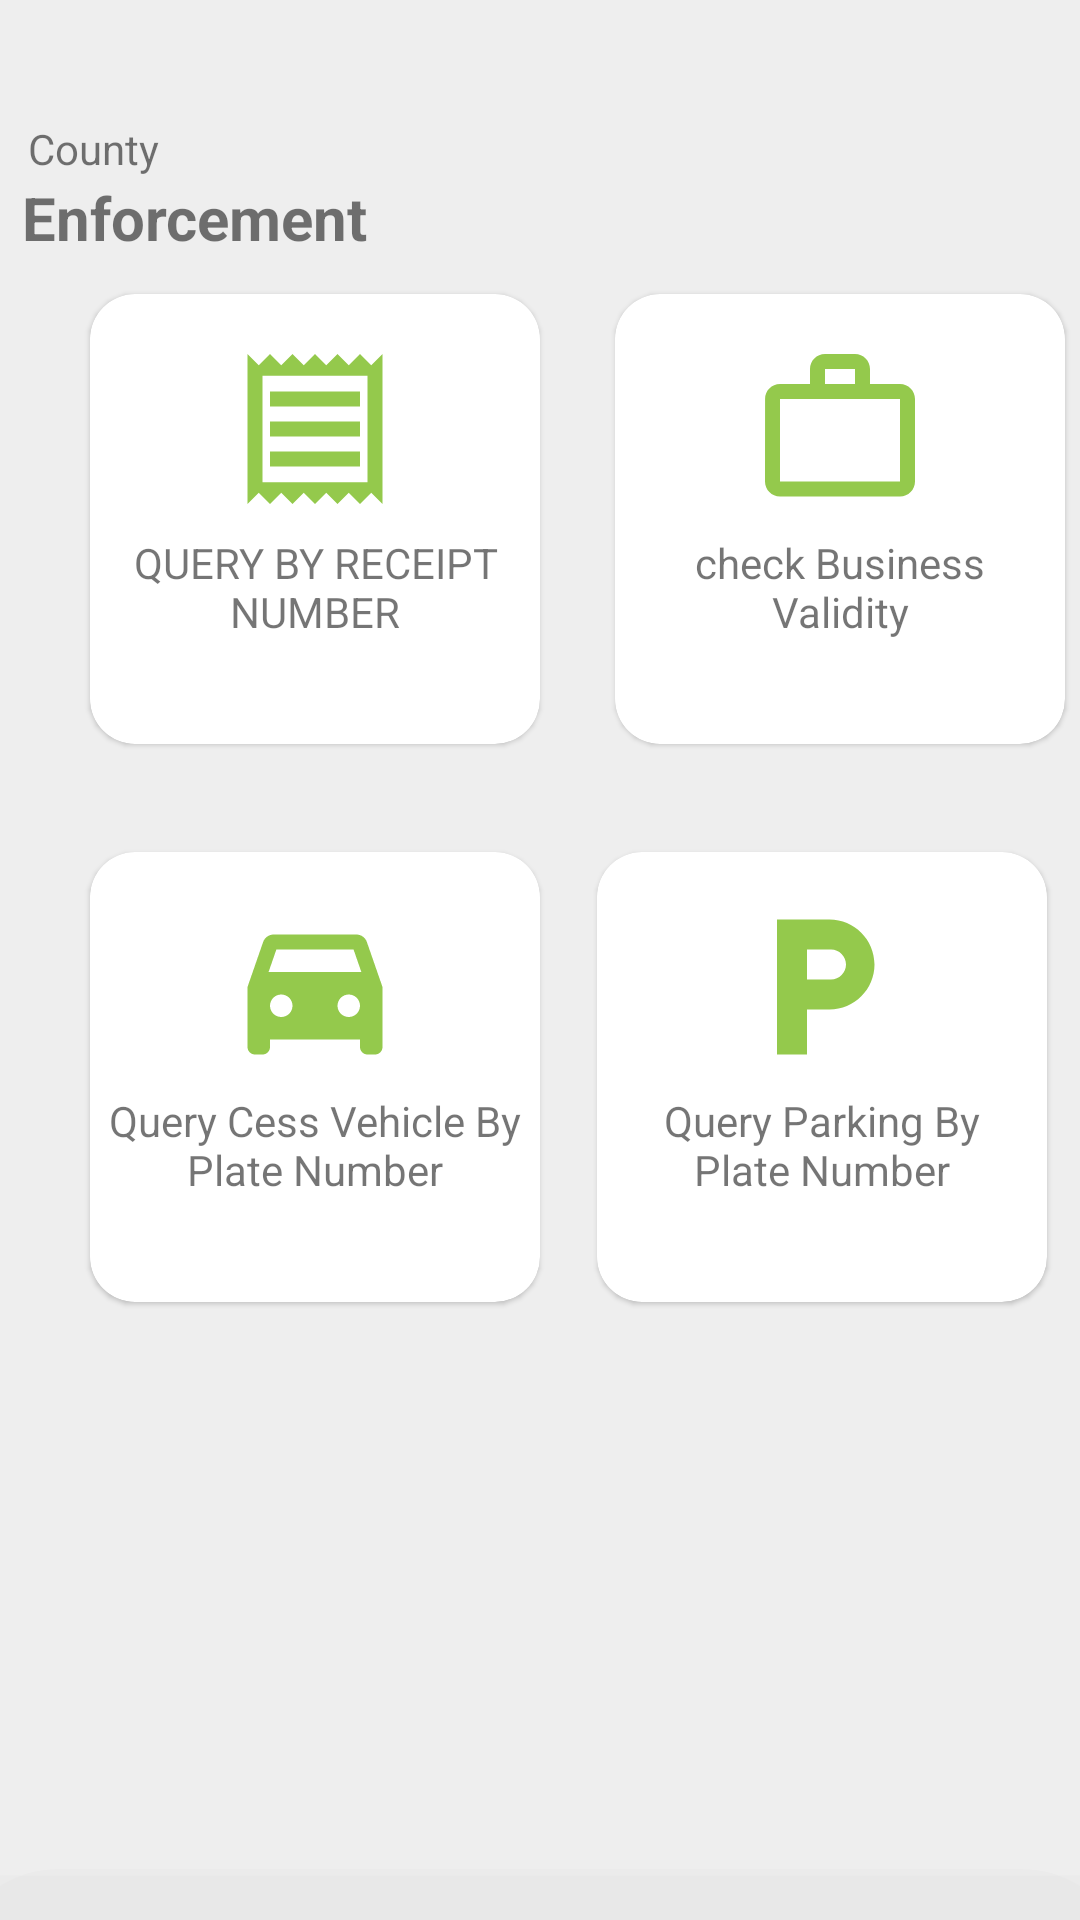

Icon bounding boxes for this 1080×1920 phone screenshot, format [x1,y1,x2,y2]:
car: [247,934,383,1055]
local parking: [777,919,875,1055]
work: [765,354,915,497]
